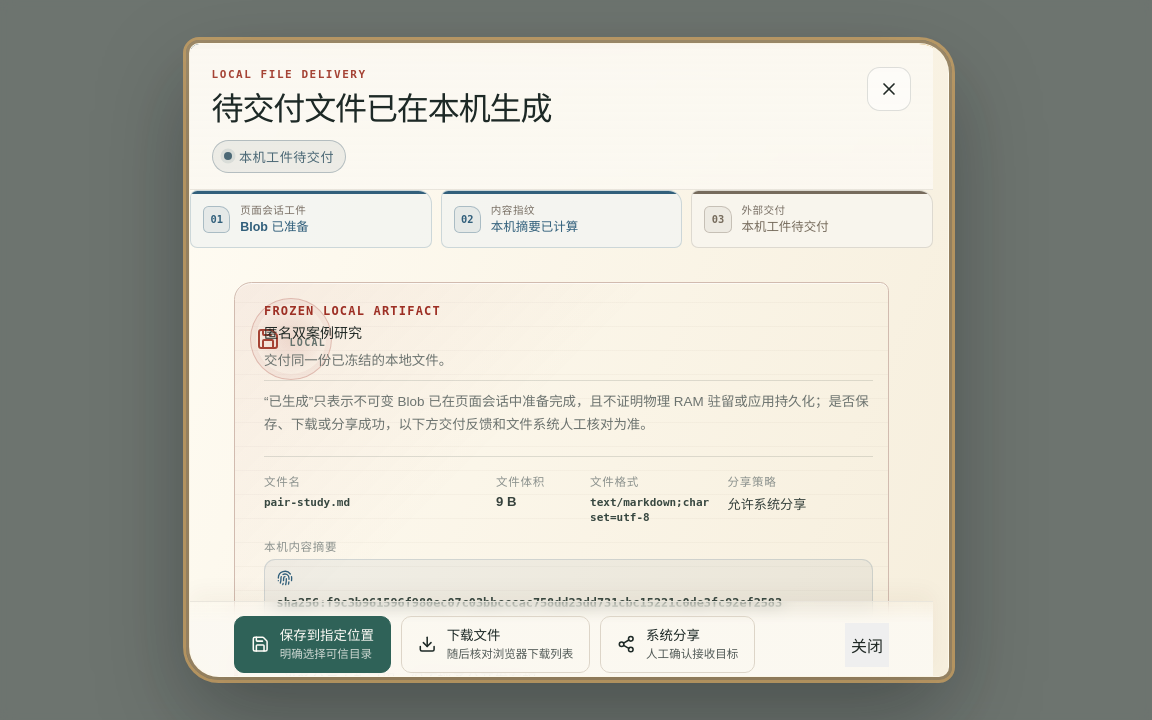
Scenario: PreparedFileDeliveryDialog › 按运行时能力显示交付入口，并把同一份 Blob 交给指定保存、下载和分享
This screenshot has width=1152, height=720.
Expected: the text "pair-study.md" is shown, top-left (264, 496), bottom-right (350, 509)
Expected: the text "9 B" is shown, top-left (496, 494), bottom-right (516, 509)
Click the button "保存到指定位置 明确选择可信目录" at (312, 645), box top-left (234, 616), bottom-right (390, 673)
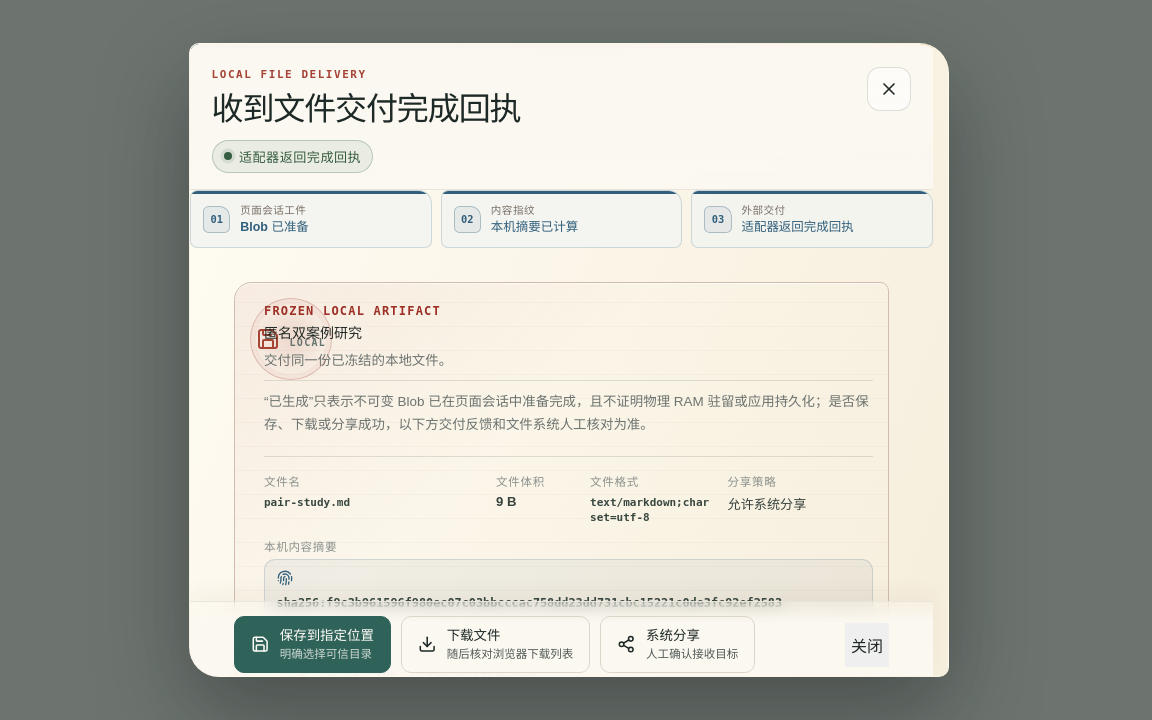
Click the button "下载文件 随后核对浏览器下载列表" at (495, 645), box top-left (400, 616), bottom-right (590, 673)
(page scrolled)
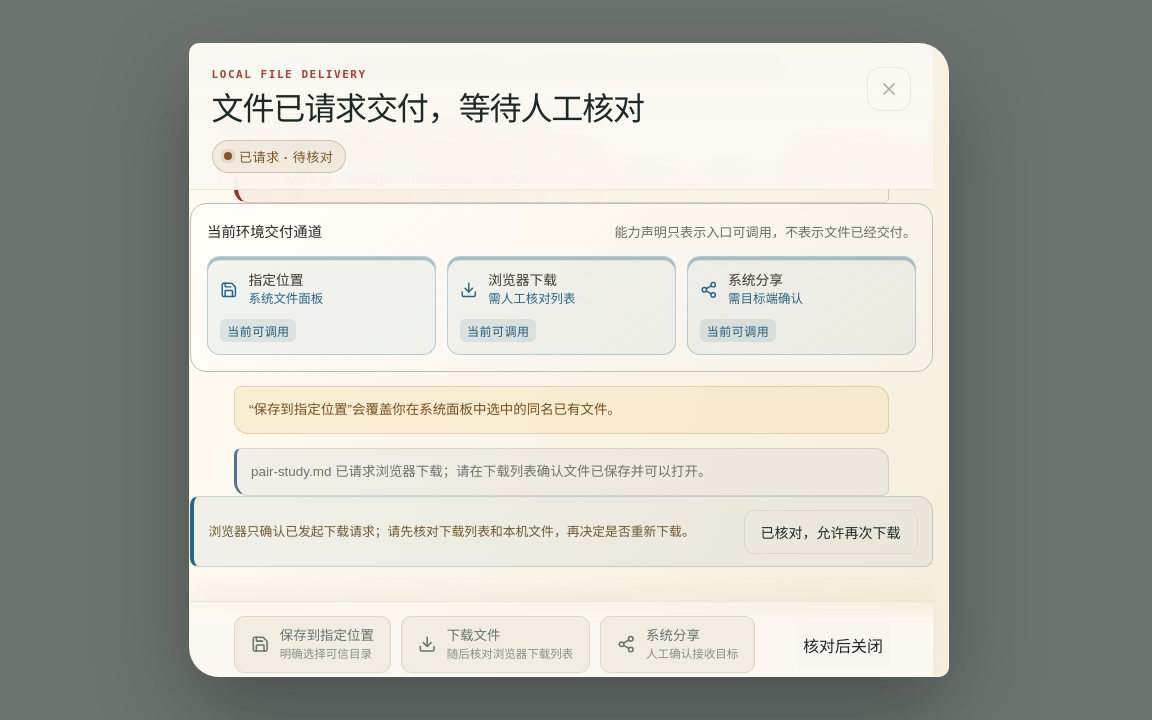
Expected: the text "请先在目标应用核对文件已接收" is not shown
Now the text "pair-study.md 已请求浏览器下载；请在下载列表确认文件已保存并可以打开。" is shown, box top-left (234, 448), bottom-right (888, 497)
Now the text "浏览器只确认已发起下载请求；请先核对下载列表和本机文件，再决定是否重新下载。" is shown, box top-left (208, 522), bottom-right (694, 542)
Click the button "已核对，允许再次下载" at (830, 532), box top-left (743, 510), bottom-right (917, 554)
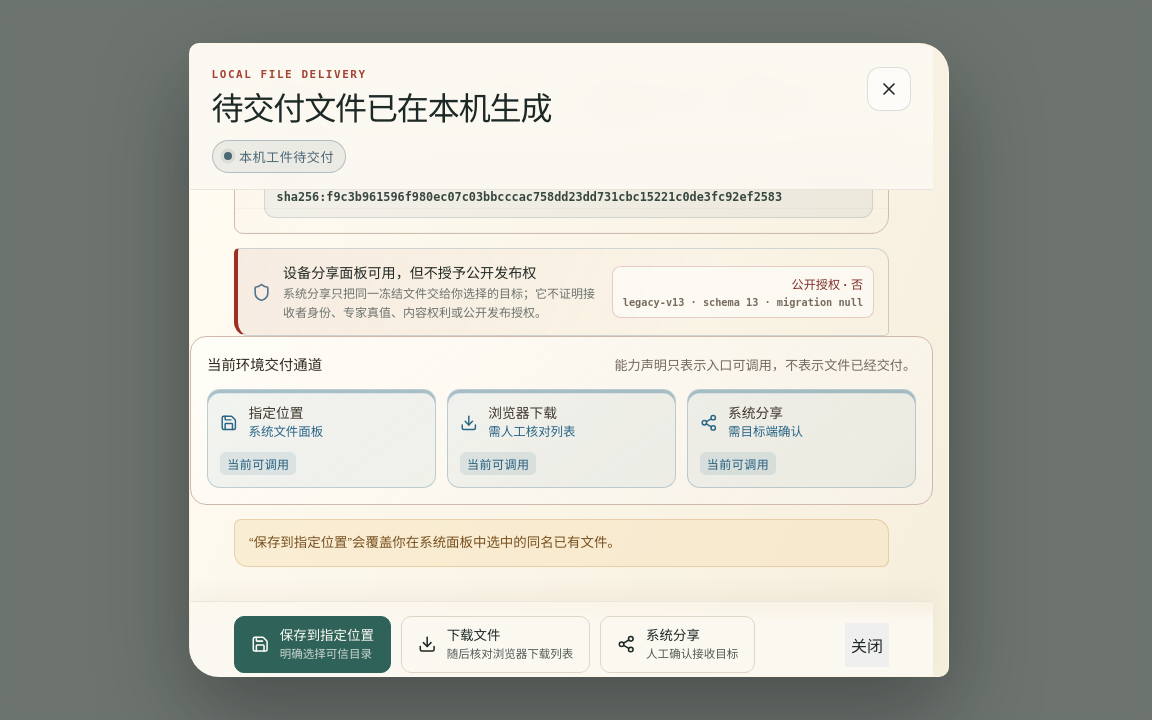
Click the button "系统分享 人工确认接收目标" at (677, 645), box top-left (600, 616), bottom-right (755, 673)
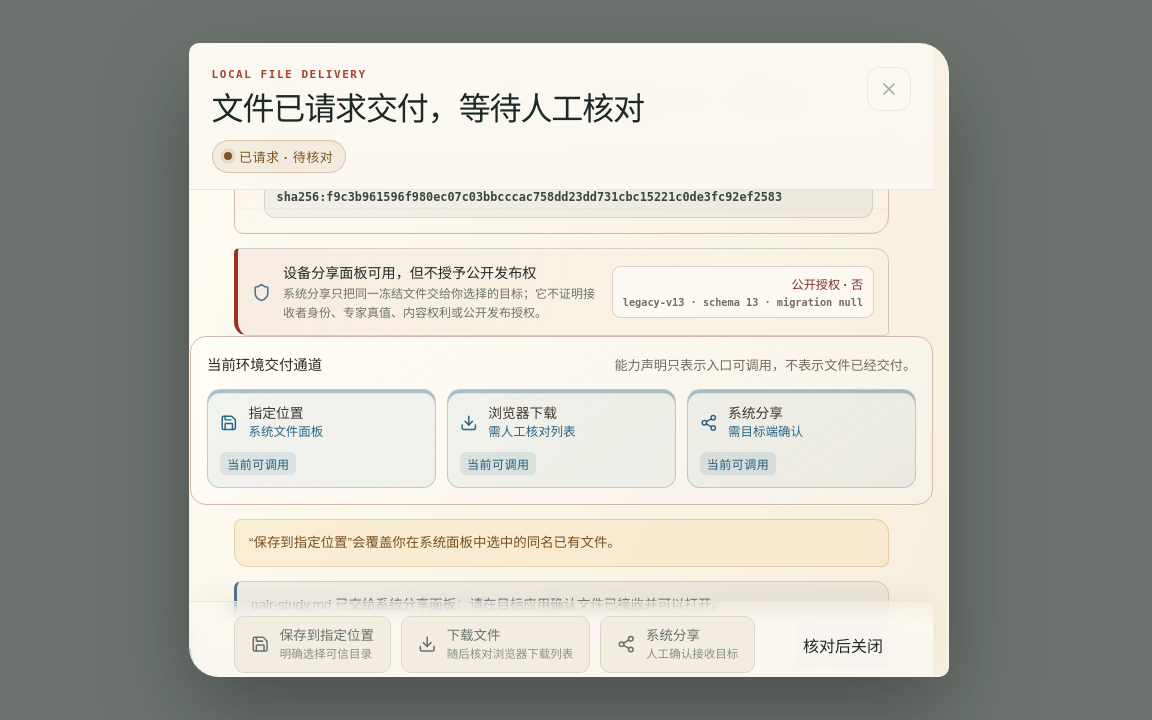
Expected: the text "请先核对下载列表和本机文件" is not shown
Now the text "pair-study.md 已交给系统分享面板；请在目标应用确认文件已接收并可以打开。" is shown, box top-left (234, 581), bottom-right (888, 630)
Now the text "系统只确认已打开分享面板；请先在目标应用核对文件已接收并可以打开，再决定是否重新分享。" is shown, box top-left (208, 655), bottom-right (720, 677)
